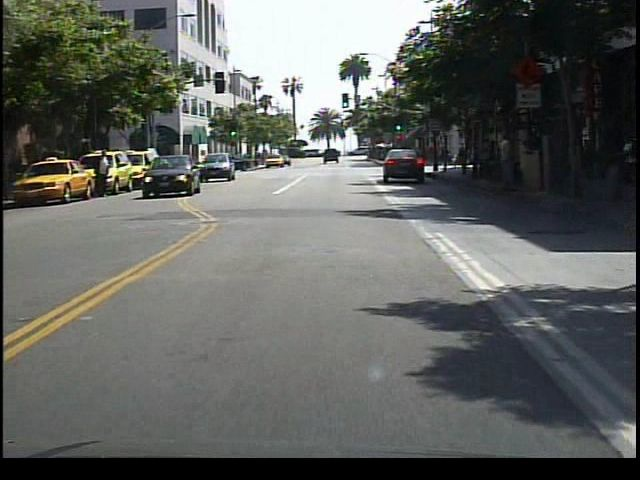person: (494, 130, 520, 200), (94, 147, 114, 209)
